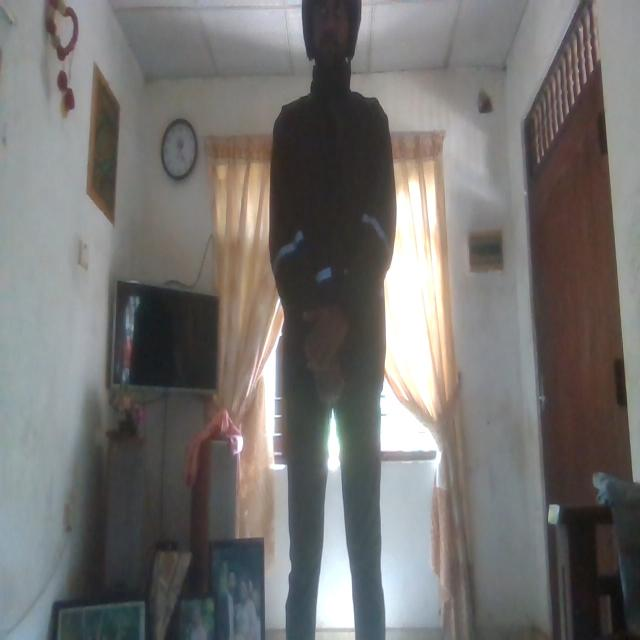Helmet_Wearer: (289, 0, 371, 81)
Jacket_Wearer: (266, 80, 400, 411)
Person: (269, 0, 400, 636)
